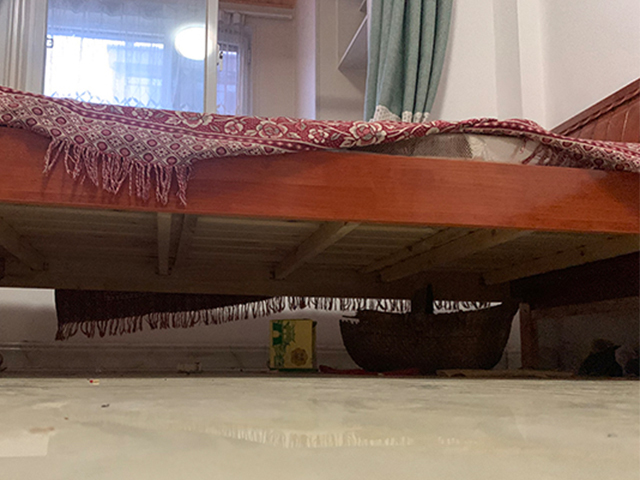bed: (1, 78, 640, 371)
curtain: (359, 1, 439, 126)
